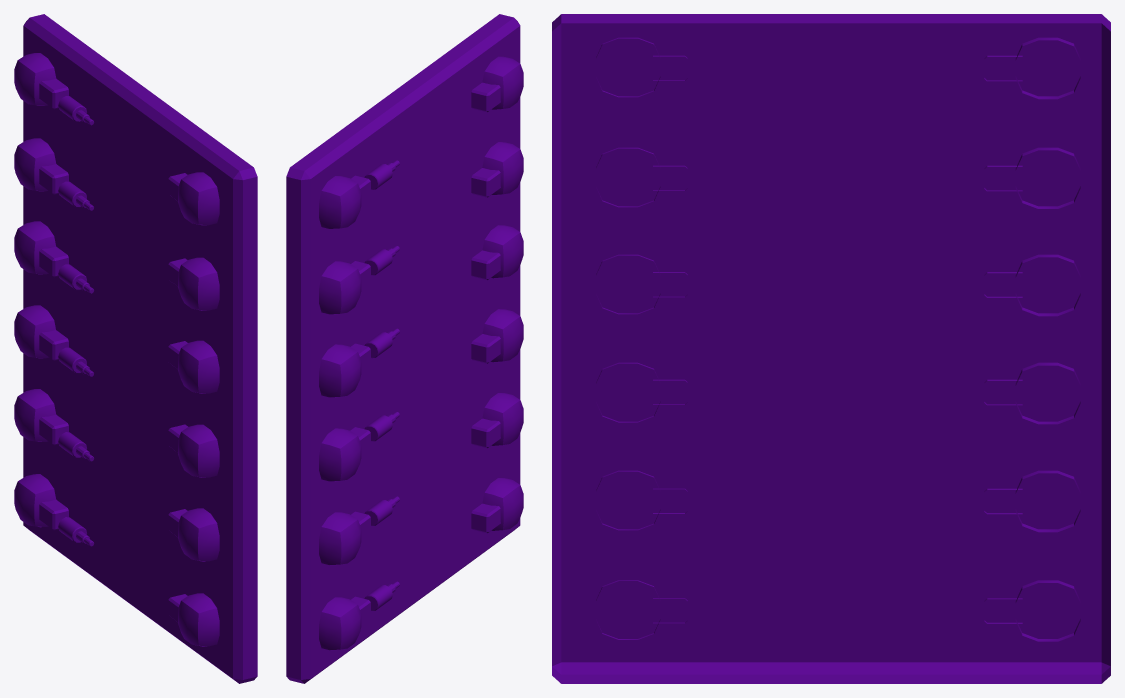
The model's file is WirePuzzle.fbx.
The picture shows the model from 3 angles, left to right: view 1: azimuth 30°, elevation 25°; view 2: azimuth 150°, elevation 25°; view 3: azimuth 270°, elevation 25°; orthographic projection. The views are drawn at different scales.
Visible parts, largest first — view 1: WirePuzzle, Plug2, Plug4, Plug3, Plug1, Plug5, Plug6; view 2: WirePuzzle, Plug2, Plug4, Plug1, Plug3, Plug5, Plug6; view 3: WirePuzzle.
Boxes of the visible parts, <box> form: WirePuzzle: <box>14,14,257,683</box>; Plug2: <box>58,181,93,210</box>; Plug4: <box>58,347,93,376</box>; Plug3: <box>58,264,94,293</box>; Plug1: <box>58,96,94,125</box>; Plug5: <box>58,432,94,461</box>; Plug6: <box>58,517,94,546</box>; WirePuzzle: <box>286,14,523,683</box>; Plug2: <box>364,246,399,275</box>; Plug4: <box>364,412,399,441</box>; Plug1: <box>364,160,399,189</box>; Plug3: <box>364,328,399,358</box>; Plug5: <box>364,496,399,525</box>; Plug6: <box>364,581,399,610</box>; WirePuzzle: <box>552,14,1110,683</box>.
Bounding box in the file's own units: 0.0781 × 0.8412 × 0.6448.
